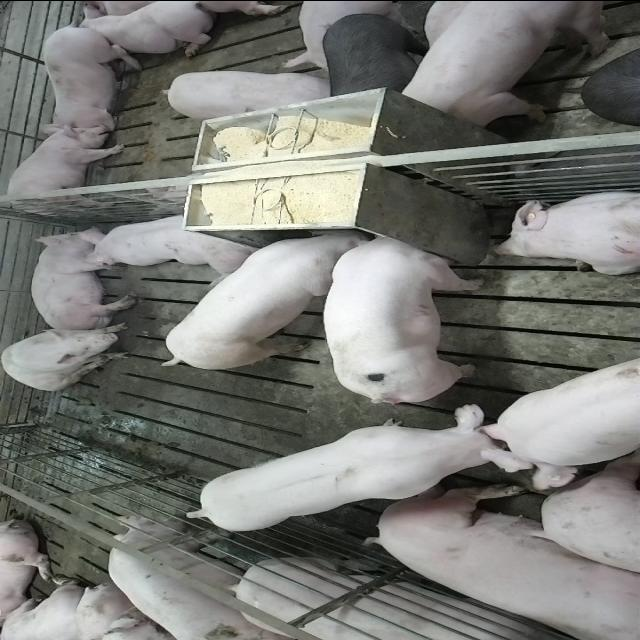Feeding: (160, 228, 368, 374), (322, 224, 487, 398)
Lateral_lying: (367, 481, 640, 636), (28, 225, 140, 332)
Sitting: (3, 326, 138, 390)
Standing: (187, 403, 542, 531), (222, 554, 634, 640), (396, 1, 630, 126), (101, 517, 288, 640), (485, 356, 640, 494), (5, 126, 130, 214), (158, 65, 332, 117), (323, 9, 423, 98)
Sternal_lying: (490, 187, 640, 275), (82, 208, 262, 272), (35, 23, 140, 128), (66, 0, 214, 54)
